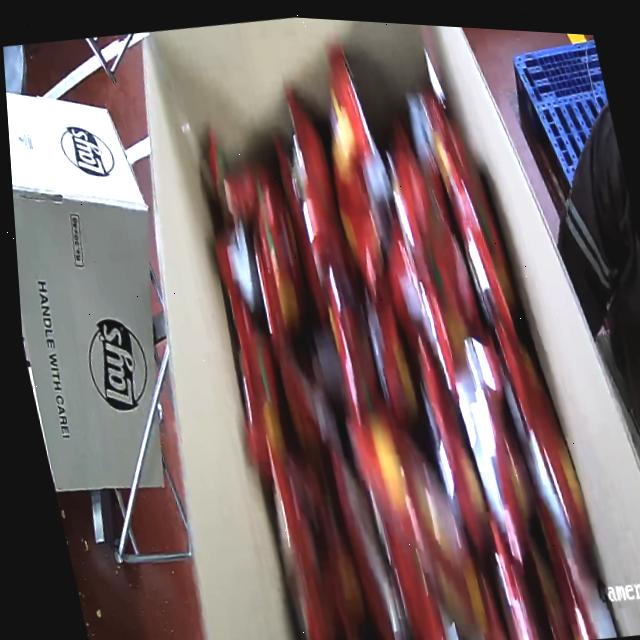MASALA: (164, 37, 603, 640)
